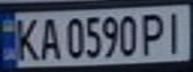0: (118, 11, 142, 57), (63, 13, 84, 60)
5: (81, 13, 103, 60)
9: (100, 12, 121, 59)
A: (36, 15, 63, 61)
I: (160, 8, 190, 55)
K: (9, 15, 42, 62)
P: (139, 10, 169, 56)
